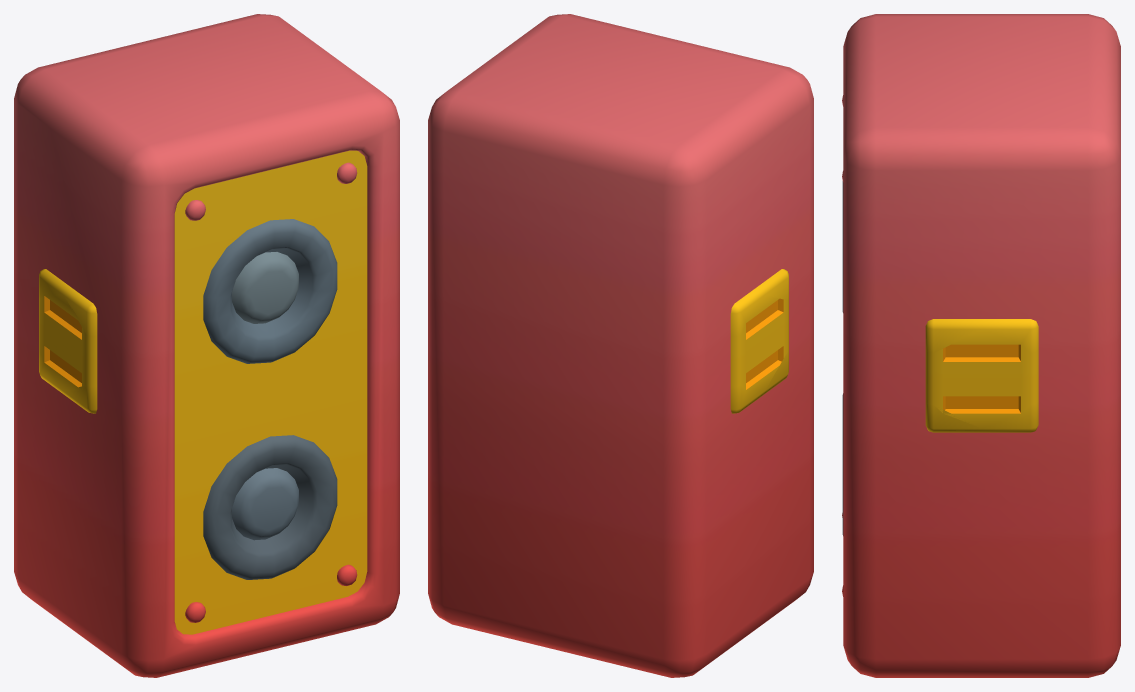
Rendered from Audio_01.glb.
3 views of the same model, side by side, from view 1: azimuth 30°, elevation 25°; view 2: azimuth 150°, elevation 25°; view 3: azimuth 270°, elevation 25° (orthographic). The views are drawn at different scales.
Parts seen in each view (by area): view 1: Audio_01; view 2: Audio_01; view 3: Audio_01.
Boxes of the visible parts, x1,y1,x2,y2 form: Audio_01: (14,14,399,677); Audio_01: (428,14,813,677); Audio_01: (842,14,1120,677).
Size of the model in its own units: 0.4193 by 0.74 by 0.3415.
Materials: 1 (1 with a texture image).
